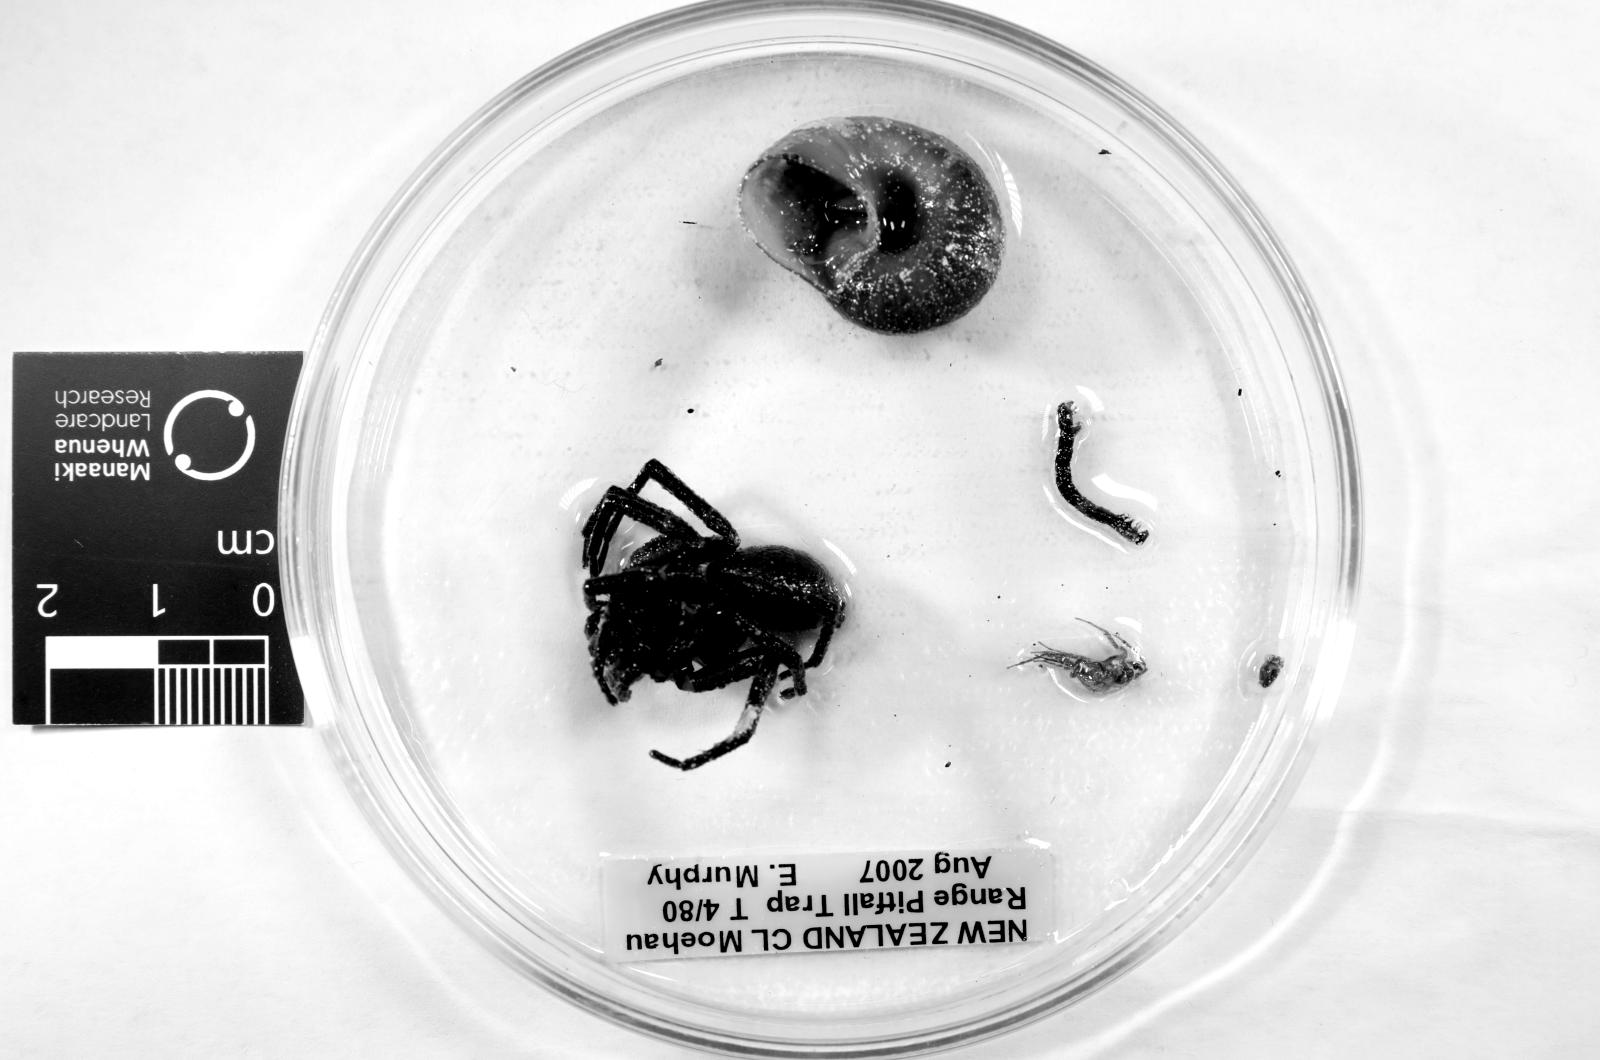araneae: (583, 459, 844, 770)
coleoptera_larva: (1055, 401, 1149, 543)
gastropoda: (739, 118, 1004, 334)
